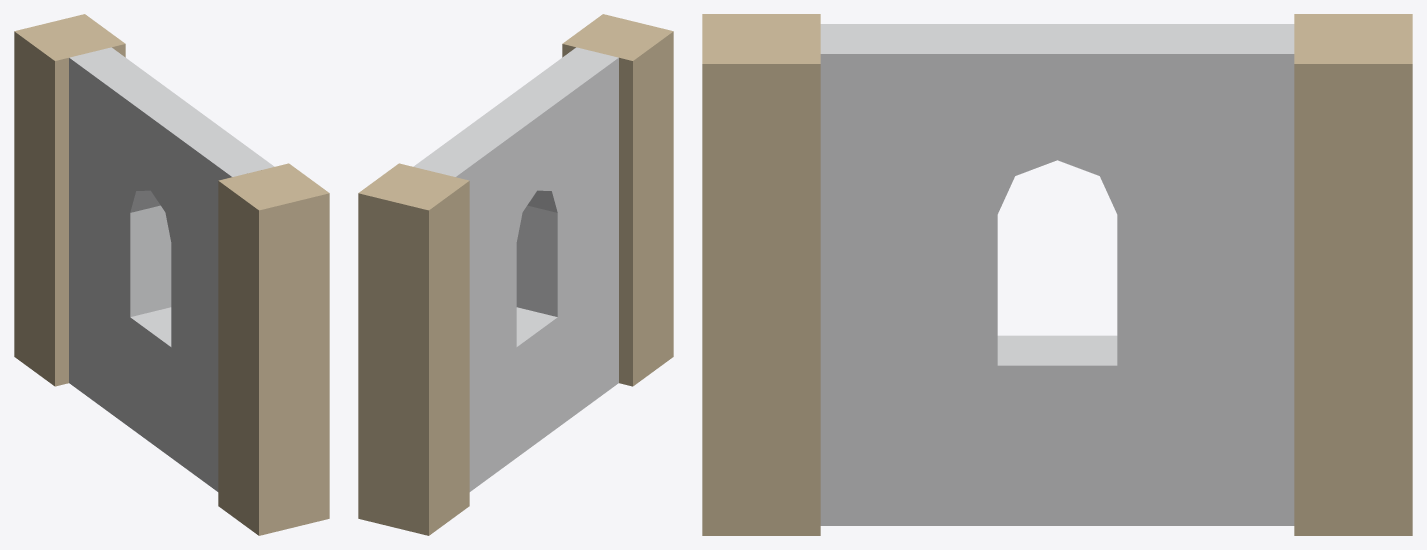
The model's file is Wood_Window_Round_01.glb.
3 renders of one model, left to right at view 1: azimuth 30°, elevation 25°; view 2: azimuth 150°, elevation 25°; view 3: azimuth 270°, elevation 25°, orthographic. The views are drawn at different scales.
Parts seen in each view (by area): view 1: Wood_Window_Round_01; view 2: Wood_Window_Round_01; view 3: Wood_Window_Round_01.
Part boxes in pixels (x1=…): Wood_Window_Round_01: x1=14, y1=14, x2=329, y2=535; Wood_Window_Round_01: x1=358, y1=14, x2=673, y2=535; Wood_Window_Round_01: x1=702, y1=14, x2=1412, y2=535.
Bounding box in the file's own units: 0.5001 × 2.2 × 3.
